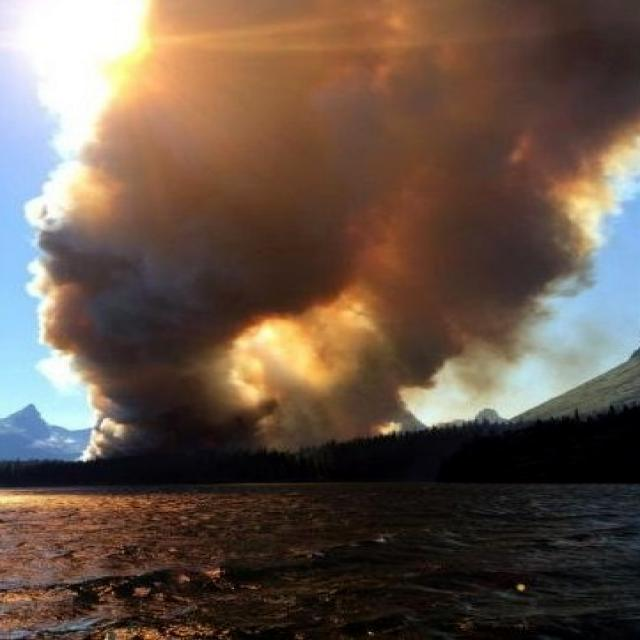Smoke: (25, 0, 640, 461)
